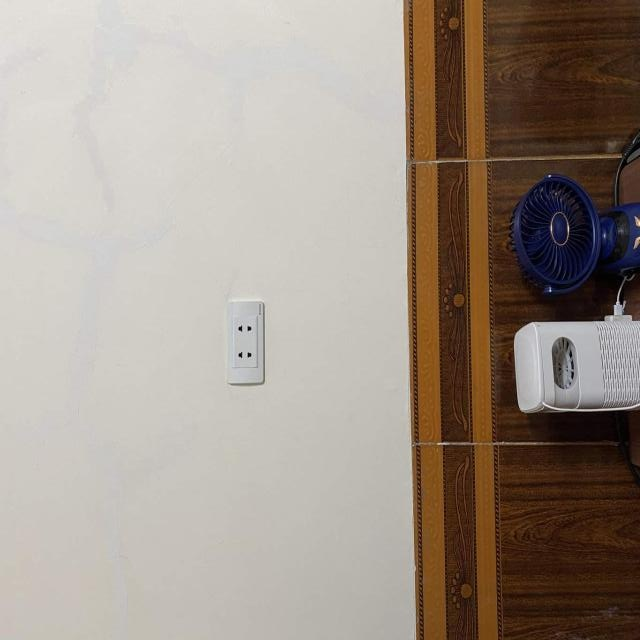outlet: (225, 300, 264, 385)
